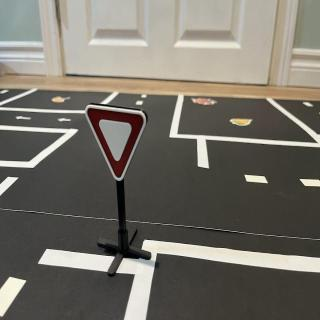road_oneway: (55, 116, 76, 126), (14, 115, 34, 123)
sign_yield: (86, 106, 148, 181)
